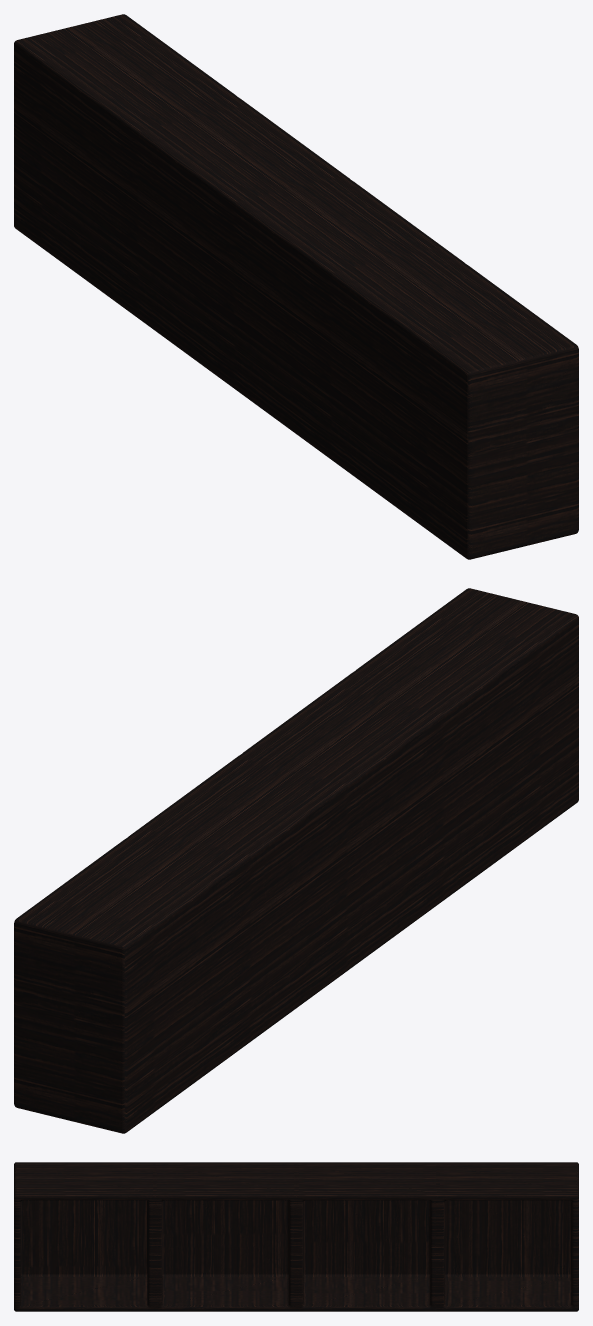
Rendered from bookshelf2.fbx.
The picture shows the model from 3 angles, top to bottom: view 1: azimuth 30°, elevation 25°; view 2: azimuth 150°, elevation 25°; view 3: azimuth 270°, elevation 25°; orthographic projection. The views are drawn at different scales.
Parts seen in each view (by area): view 1: pCube3; view 2: pCube3; view 3: pCube3.
Part boxes in pixels (x1,y1,x2,y2): pCube3: (14, 14, 578, 559); pCube3: (14, 588, 578, 1133); pCube3: (14, 1162, 578, 1311).
Bounding box in the file's own units: 0.005 × 0.008 × 0.035.
Materials: 1 (1 with a texture image).
